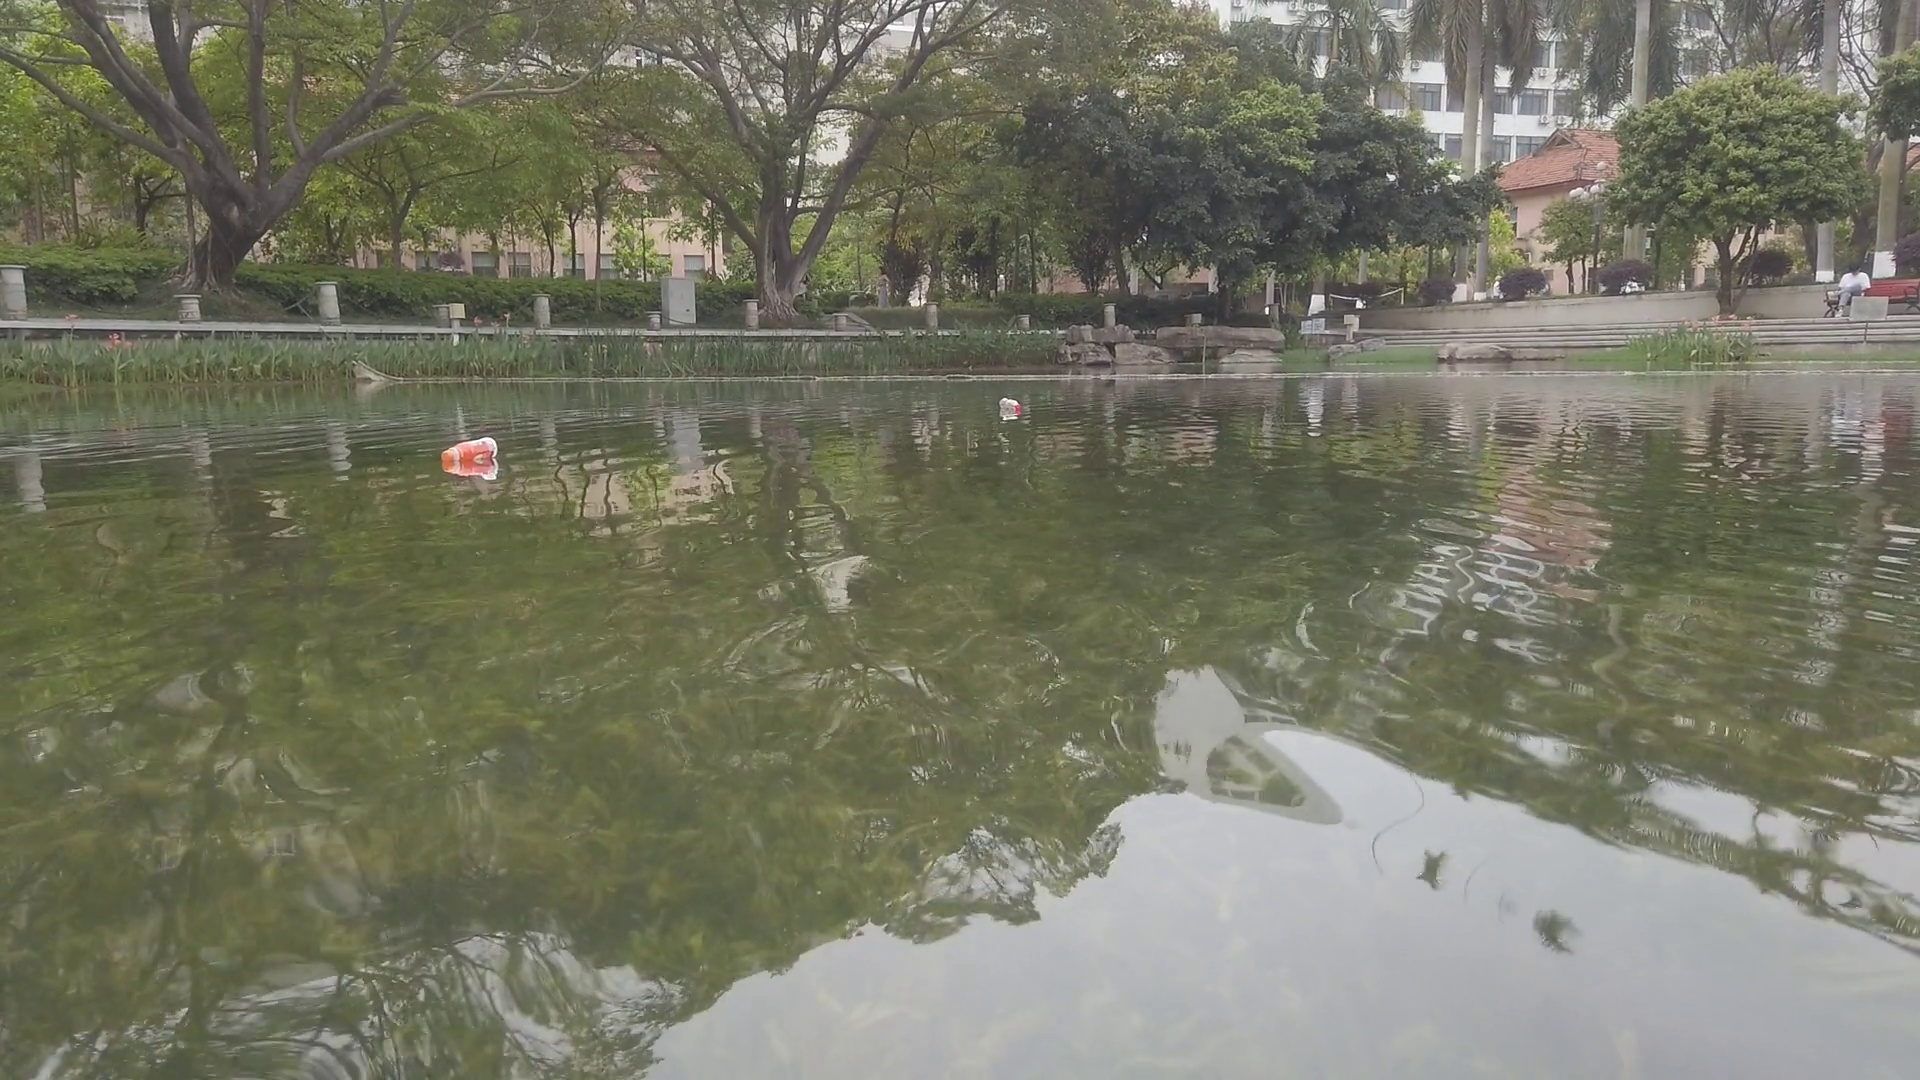bottle: (440, 436, 498, 465), (998, 397, 1025, 415)
